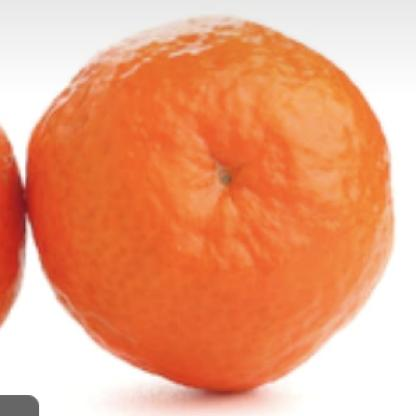fresh: (21, 18, 395, 396)
